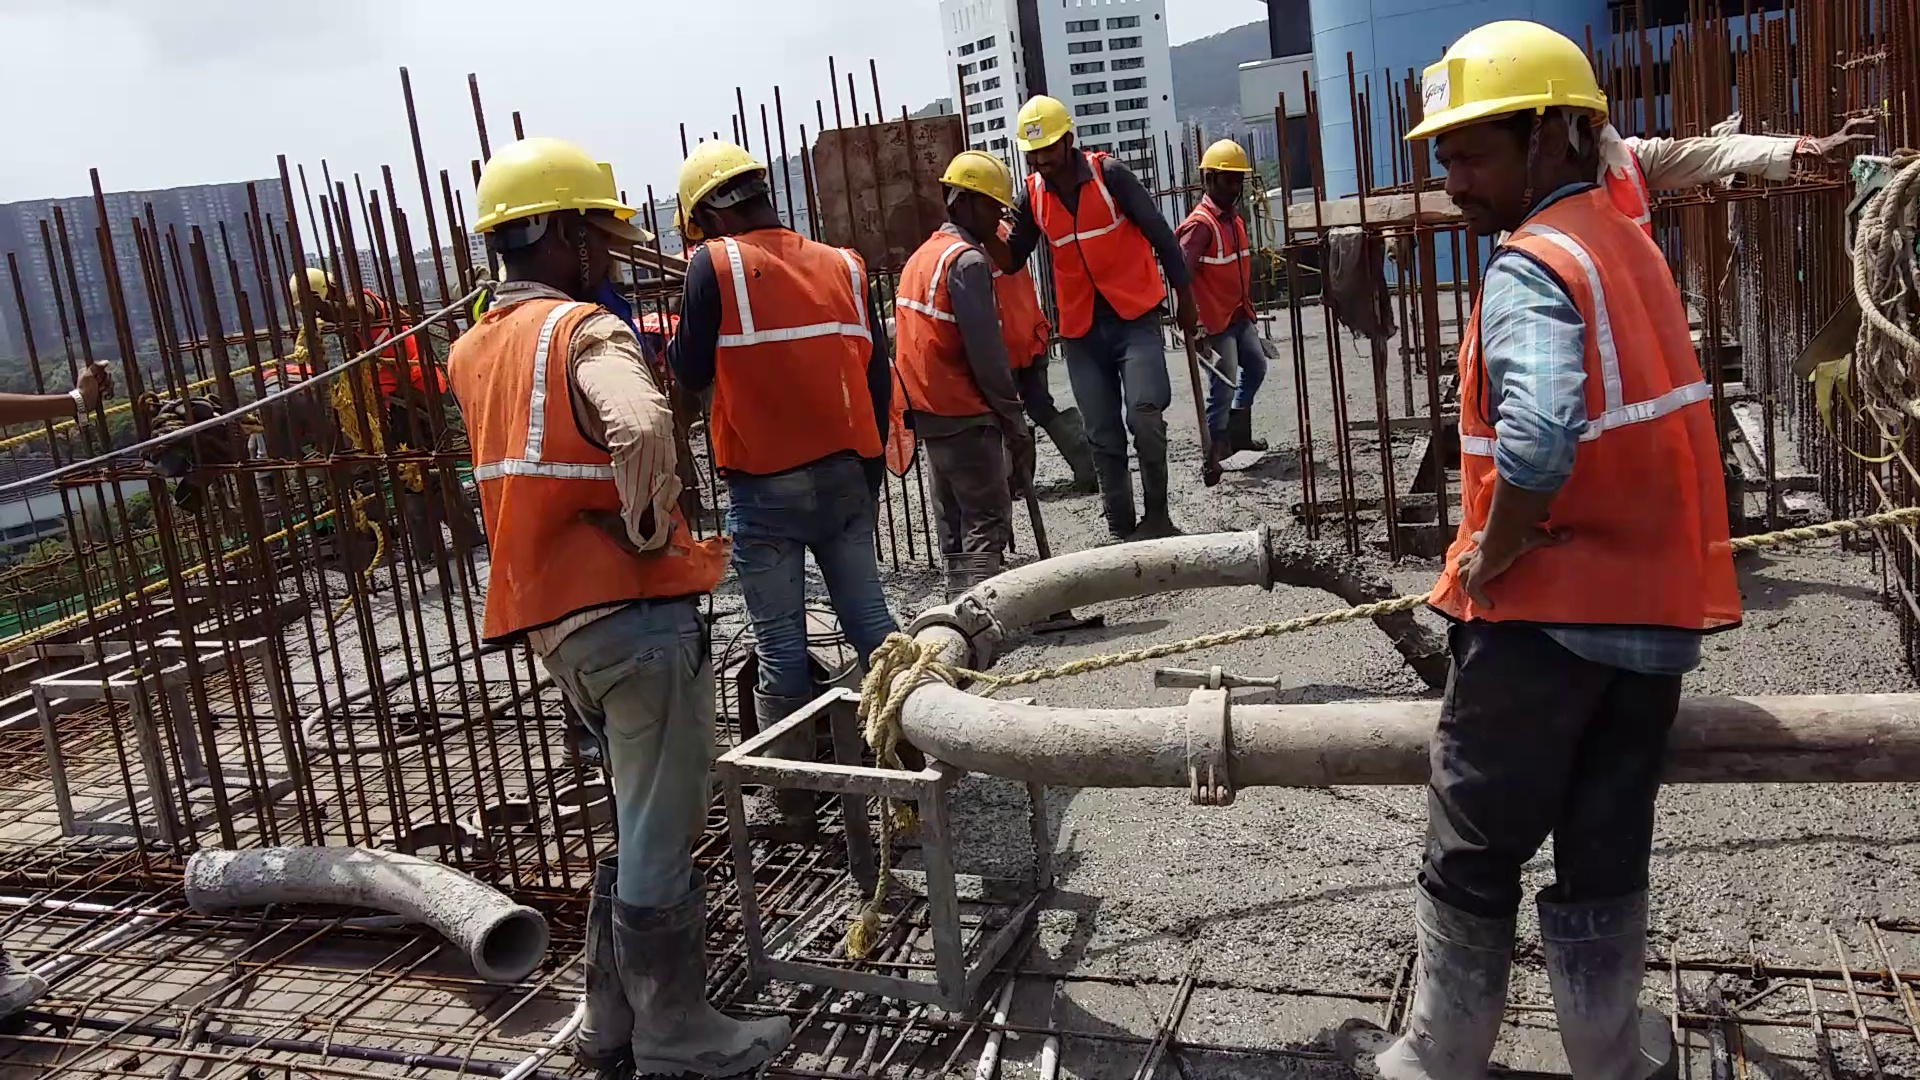SAFE: (1404, 16, 1681, 633), (460, 135, 673, 637), (695, 137, 870, 479), (1015, 91, 1160, 334), (893, 142, 1009, 426), (1188, 137, 1261, 340)
